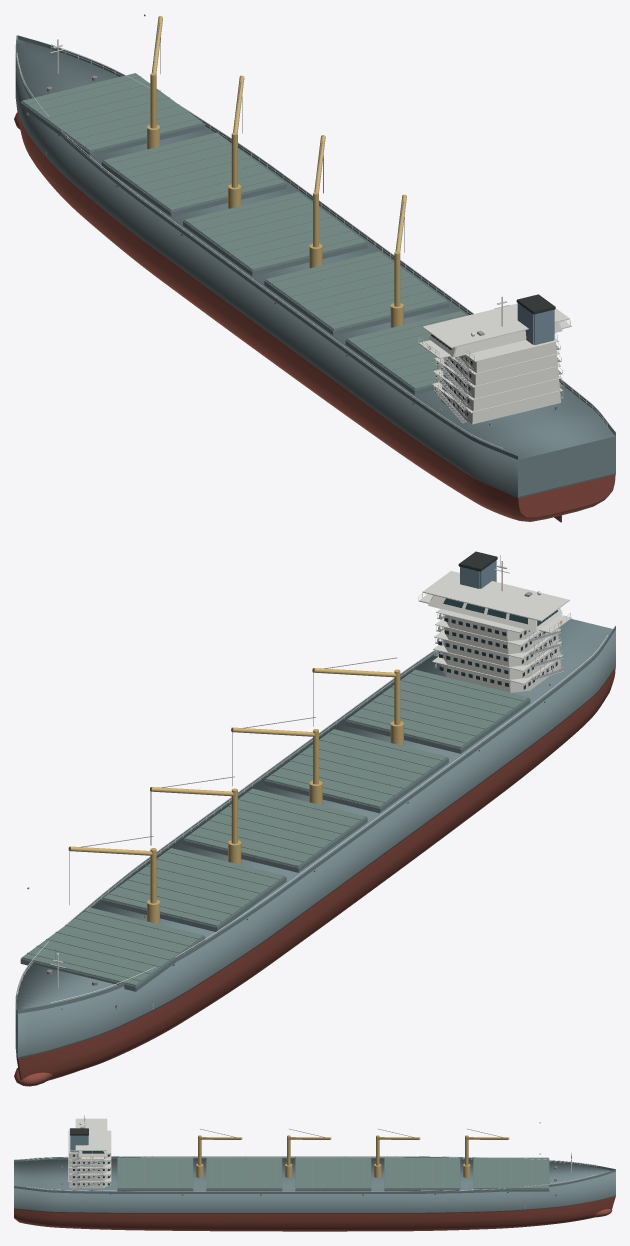
File: bulk.glb
The picture shows the model from 3 angles, top to bottom: view 1: azimuth 30°, elevation 25°; view 2: azimuth 150°, elevation 25°; view 3: azimuth 270°, elevation 25°; orthographic projection. The views are drawn at different scales.
Visible parts, largest first — view 1: hull, green, bottom, white, metal, ochre, stripe, blue; view 2: hull, green, bottom, white, metal, ochre, window, stripe, black; view 3: hull, green, bottom, white, metal, ochre, stripe, blue, window.
Part boxes in pixels (x1,y1,x2,y2): hull: (15,35,615,496); green: (21,14,466,389); bottom: (14,101,615,522); white: (16,39,607,449); metal: (27,22,563,426); ochre: (147,16,406,327); stripe: (17,107,615,498); blue: (517,303,554,344); hull: (15,619,615,1057); green: (21,669,528,985); bottom: (14,669,615,1086); white: (16,561,607,1009); metal: (27,555,564,1009); ochre: (68,668,403,924); window: (431,596,557,689); stripe: (16,644,615,1058); black: (61,551,545,1009); hull: (14,1156,615,1212); green: (118,1153,548,1188); bottom: (14,1196,615,1231); white: (27,1118,597,1208); metal: (61,1115,571,1196); ochre: (196,1135,509,1177); stripe: (14,1154,615,1213); blue: (70,1135,88,1152); window: (73,1151,110,1185).
Bounding box in the file's own units: 32.08 × 44.4 × 230.
